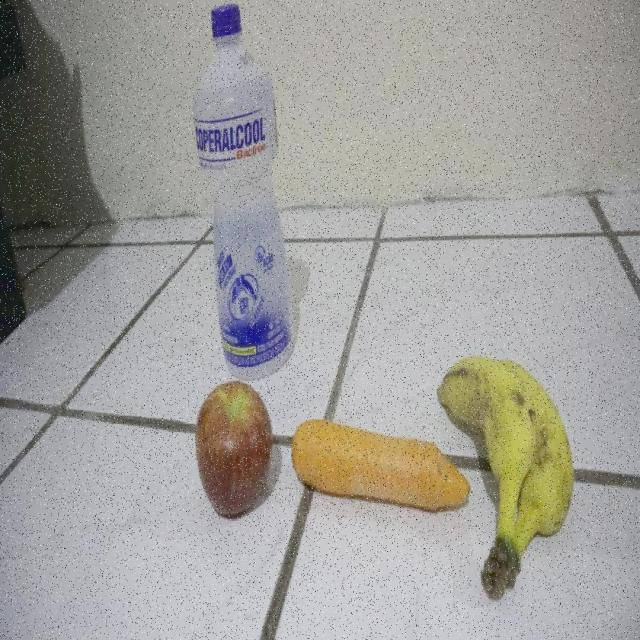AlcoholBottle: (190, 2, 312, 377)
Apple: (192, 384, 277, 520)
Banana: (455, 350, 589, 601)
Carrot: (289, 418, 455, 538)
